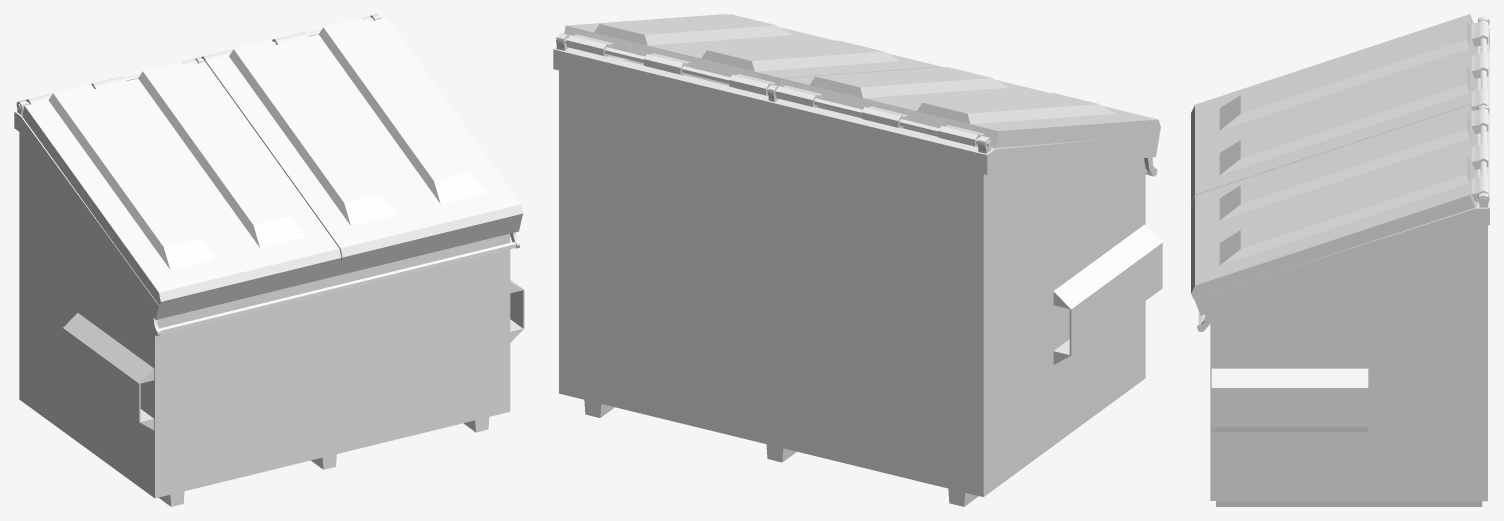
The model's file is dumpster_375.glb.
3 views of the same model, side by side, from view 1: azimuth 30°, elevation 25°; view 2: azimuth 150°, elevation 25°; view 3: azimuth 270°, elevation 25° (orthographic). The views are drawn at different scales.
Visible parts, largest first — view 1: dumpster_375; view 2: dumpster_375; view 3: dumpster_375.
Boxes of the visible parts, box(x1,y1,x2,y2) form: dumpster_375: box(14, 14, 524, 506); dumpster_375: box(553, 14, 1162, 506); dumpster_375: box(1191, 14, 1489, 506).
Bounding box in the file's own units: 1.62 × 1.3 × 1.06.
Materials: 1 (1 with a texture image).
